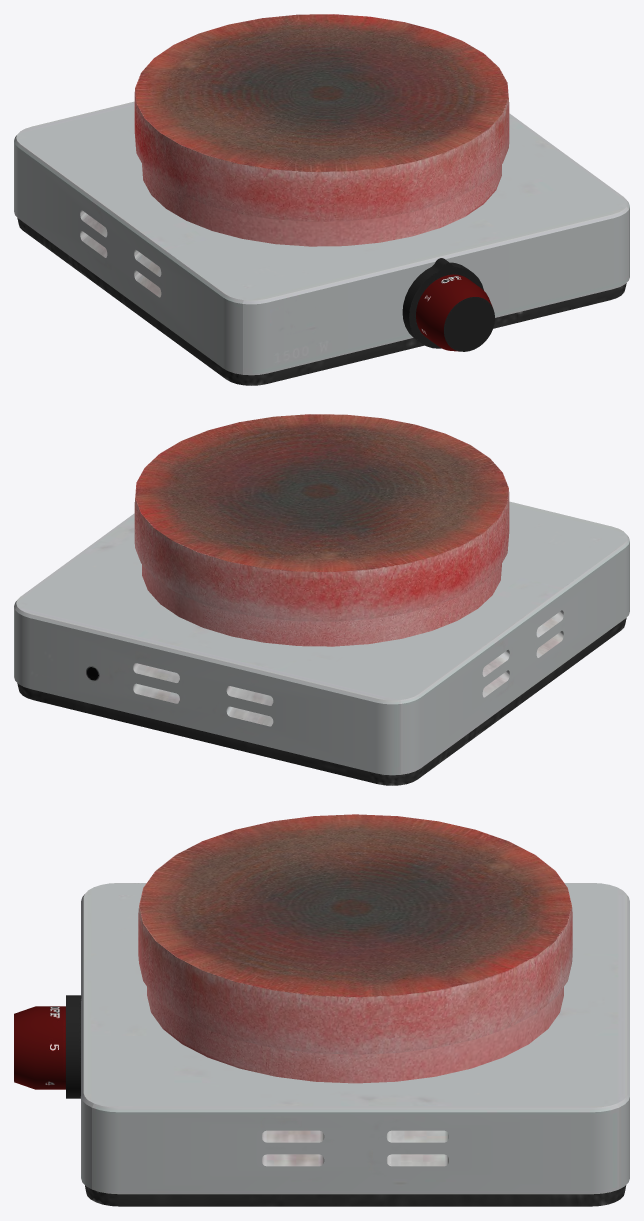
The model's file is stove_cylender.fbx.
3 renders of one model, top to bottom at view 1: azimuth 30°, elevation 25°; view 2: azimuth 150°, elevation 25°; view 3: azimuth 270°, elevation 25°, orthographic. The views are drawn at different scales.
Parts seen in each view (by area): view 1: stove_base, plate, nob_h; view 2: stove_base, plate; view 3: stove_base, plate, nob_h.
Part boxes in pixels (x1,y1,x2,y2): stove_base: [14, 101, 629, 385]; plate: [134, 14, 509, 246]; nob_h: [402, 258, 494, 351]; stove_base: [14, 501, 629, 785]; plate: [134, 414, 509, 646]; stove_base: [81, 883, 629, 1206]; plate: [138, 814, 572, 1083]; nob_h: [14, 995, 81, 1098].
Size of the model in its own units: 200 by 83.91 by 229.
Materials: 4 (4 with a texture image).
